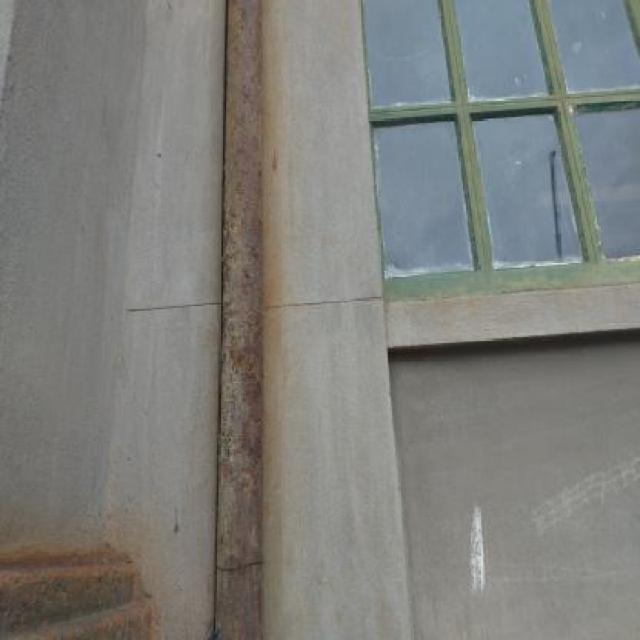gas: (215, 2, 267, 635)
